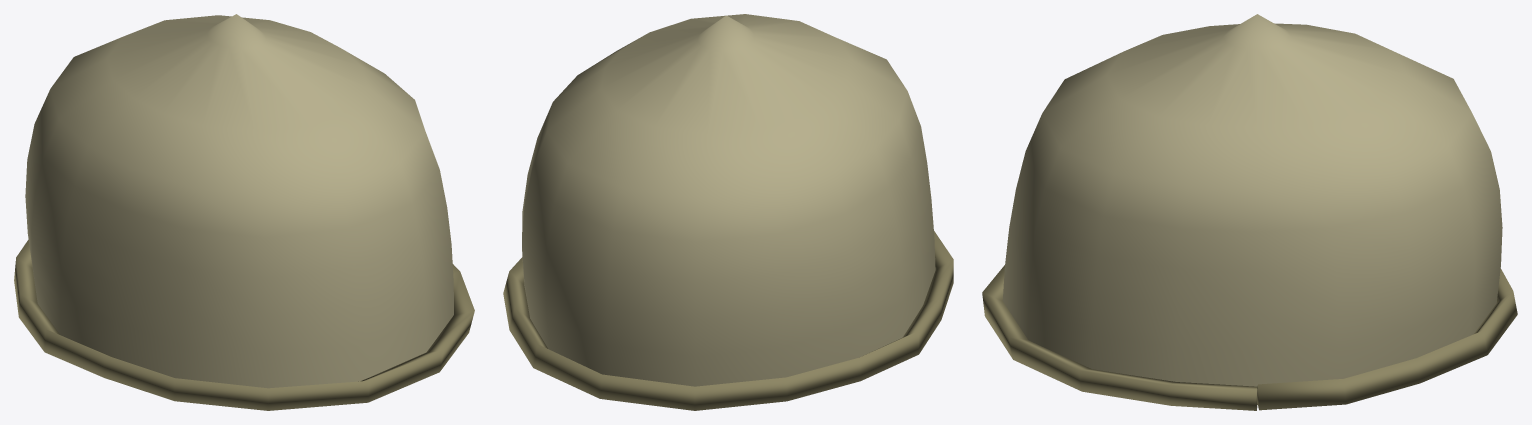
Rendered from tin_armor_head.glb.
The picture shows the model from 3 angles, left to right: view 1: azimuth 30°, elevation 25°; view 2: azimuth 150°, elevation 25°; view 3: azimuth 270°, elevation 25°; orthographic projection. The views are drawn at different scales.
Parts seen in each view (by area): view 1: tin_armor_head; view 2: tin_armor_head; view 3: tin_armor_head.
Part boxes in pixels (x1,y1,x2,y2): tin_armor_head: [14, 14, 474, 410]; tin_armor_head: [503, 14, 953, 410]; tin_armor_head: [982, 14, 1517, 410].
Bounding box in the file's own units: 0.2403 × 0.1754 × 0.2808.
